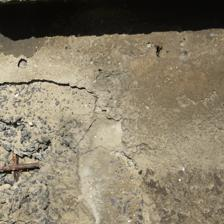Crack: (30, 0, 95, 96), (64, 17, 79, 105), (0, 21, 41, 38)
